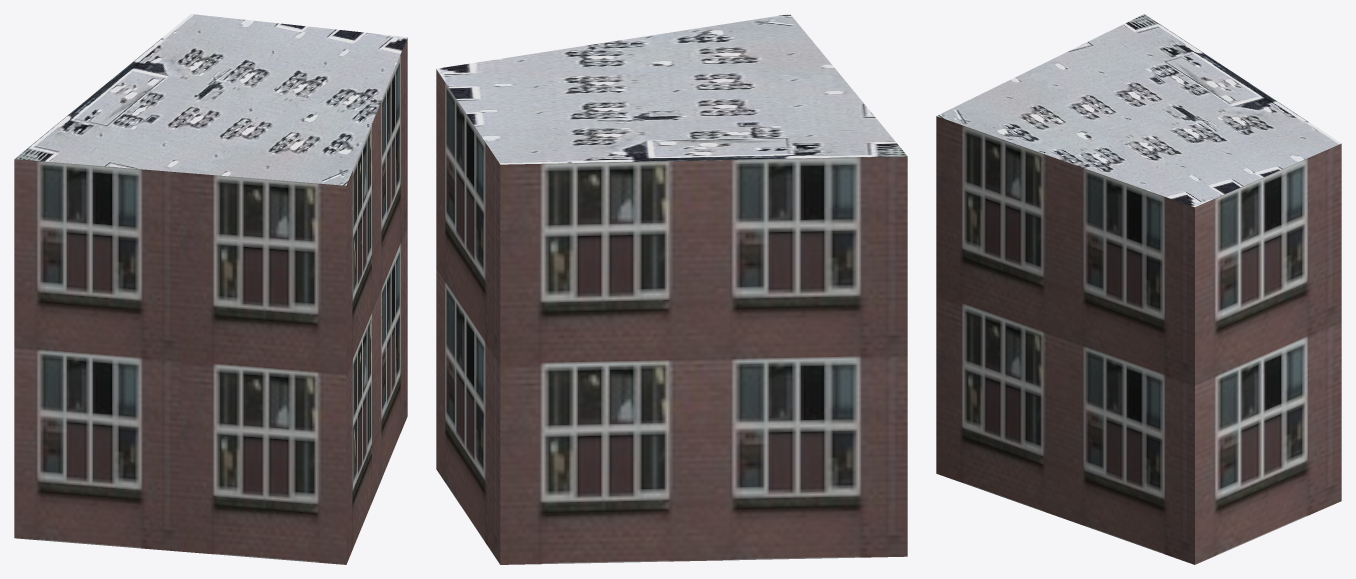
Rendered from ResTex__4209.fbx.
3 views of the same model, side by side, from view 1: azimuth 30°, elevation 25°; view 2: azimuth 150°, elevation 25°; view 3: azimuth 270°, elevation 25° (orthographic). The views are drawn at different scales.
Visible parts, largest first — view 1: CityEngineMaterial_12_m, CityEngineMaterial_m; view 2: CityEngineMaterial_12_m, CityEngineMaterial_m; view 3: CityEngineMaterial_12_m, CityEngineMaterial_m.
Part boxes in pixels (left/top/right/bottom): CityEngineMaterial_12_m: left=14, top=38, right=407, bottom=564; CityEngineMaterial_m: left=14, top=14, right=407, bottom=185; CityEngineMaterial_12_m: left=436, top=69, right=907, bottom=564; CityEngineMaterial_m: left=436, top=14, right=907, bottom=164; CityEngineMaterial_12_m: left=936, top=116, right=1341, bottom=564; CityEngineMaterial_m: left=937, top=14, right=1341, bottom=207.
Size of the model in its own units: 6.96 by 6 by 6.16.
2 materials, 2 textured.
